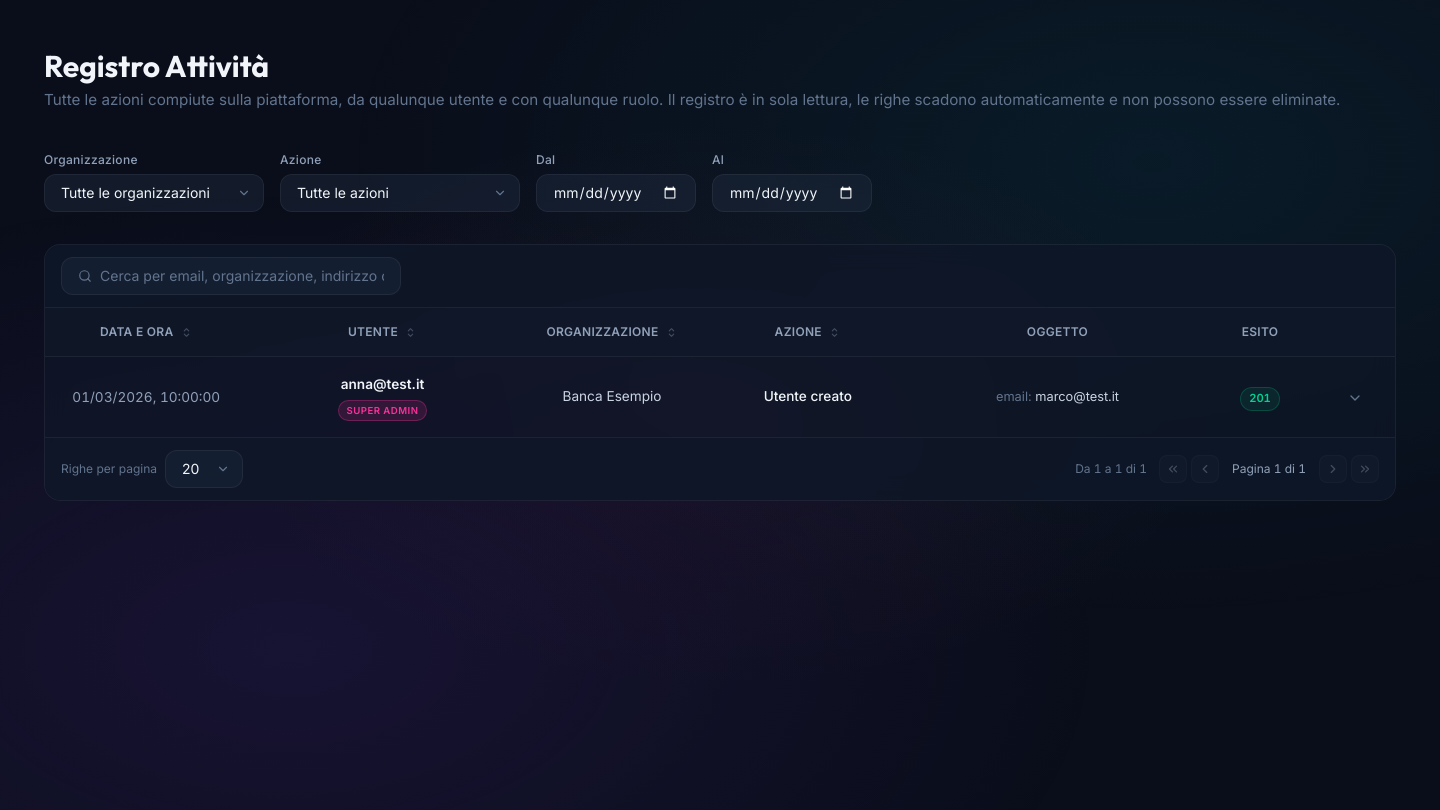
il pannello di una riga › mostra i dettagli allegati com’erano scritti
This screenshot has width=1440, height=810.
Click the text "Utente creato": (808, 396) [764,388,852,404]
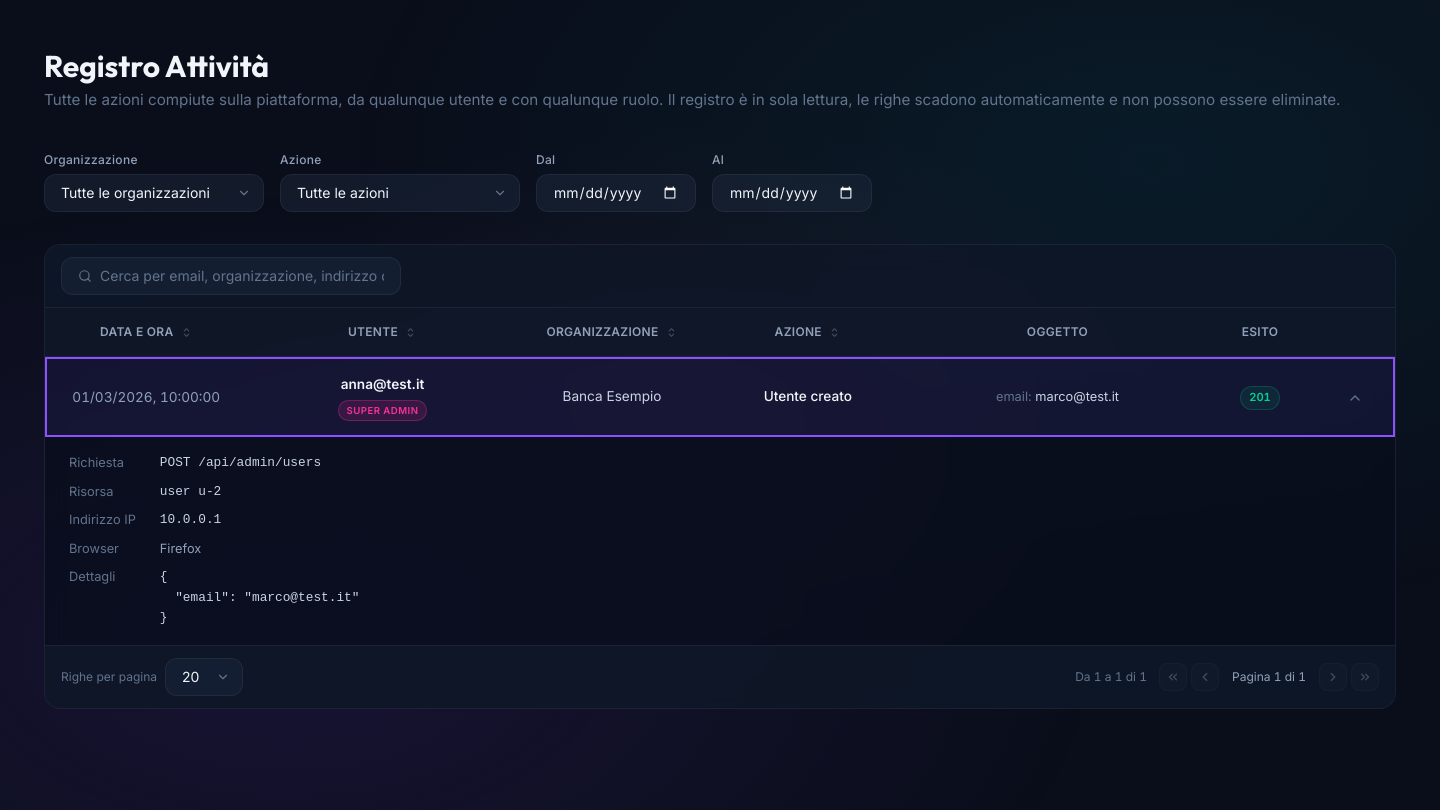
Check: the text "{ \"email\": \"marco@test.it\" }" is shown, box [160,569,360,625]
